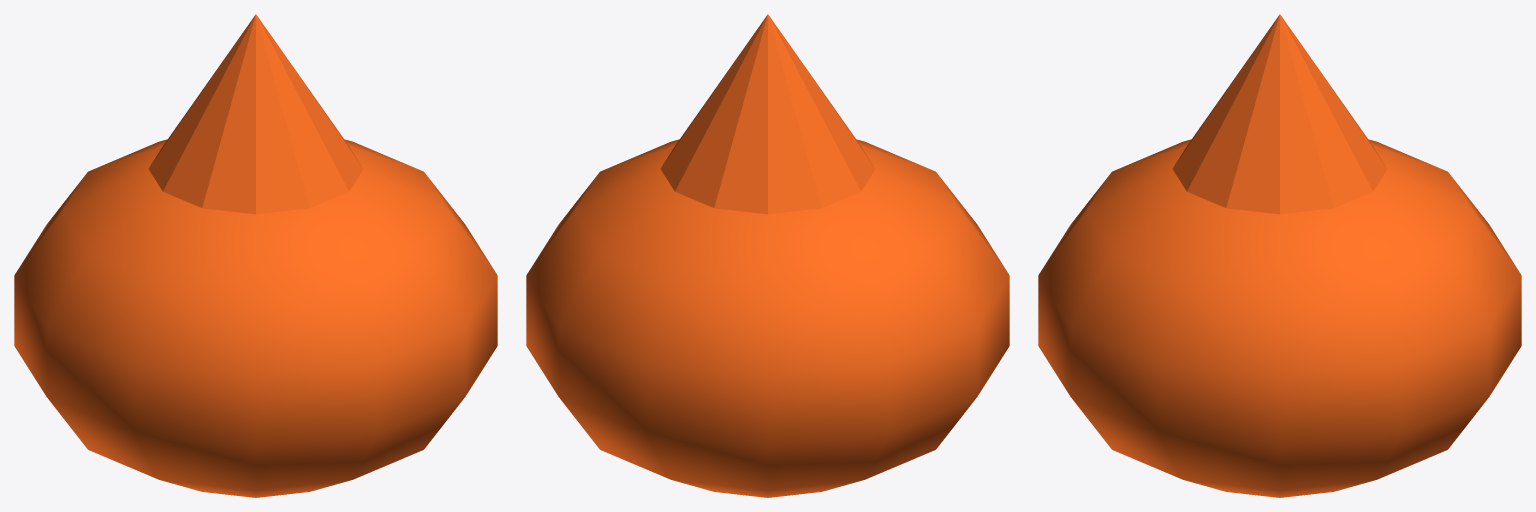
The model's file is Fruto_FireFern.fbx.
The picture shows the model from 3 angles, left to right: view 1: azimuth 30°, elevation 25°; view 2: azimuth 150°, elevation 25°; view 3: azimuth 270°, elevation 25°; orthographic projection.
Visible parts, largest first — view 1: Produto_FireFern; view 2: Produto_FireFern; view 3: Produto_FireFern.
Boxes of the visible parts, <box> form: Produto_FireFern: <box>14,14,497,497</box>; Produto_FireFern: <box>526,14,1009,497</box>; Produto_FireFern: <box>1038,14,1521,497</box>.
Size of the model in its own units: 0.5362 by 0.5555 by 0.5362.
Materials: 1 (1 with a texture image).
